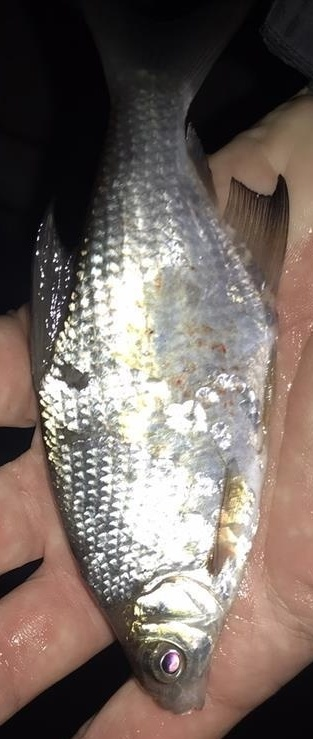Blicca bjoerkna: (20, 1, 293, 719)
